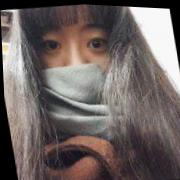WRONG: (25, 2, 137, 126)
